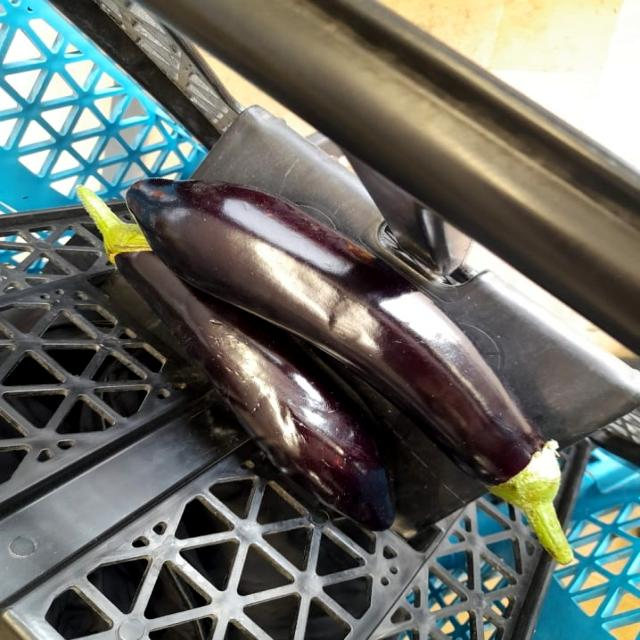eggplant: (128, 164, 580, 568), (72, 182, 402, 535)
